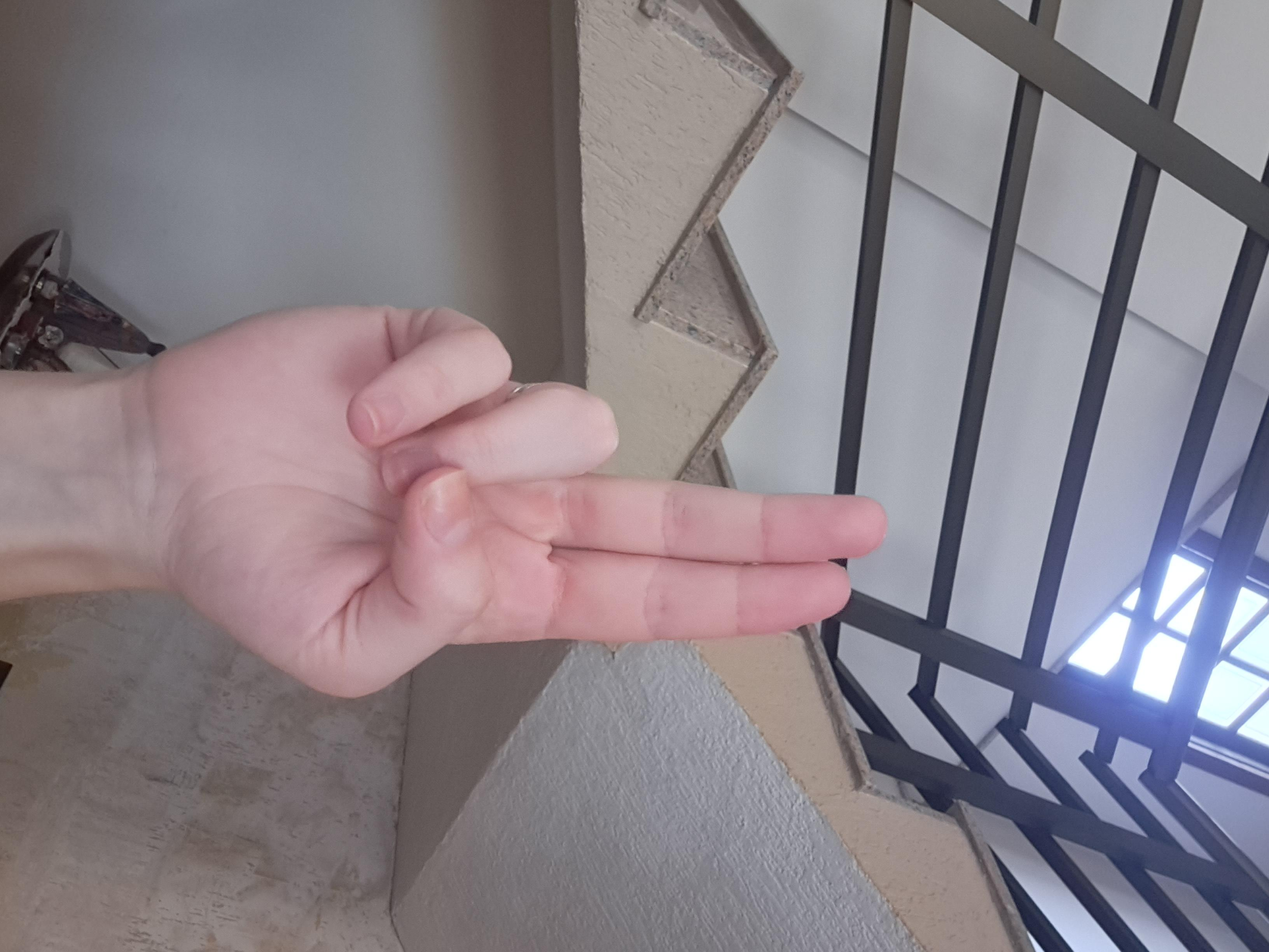U: (363, 274, 943, 843)
